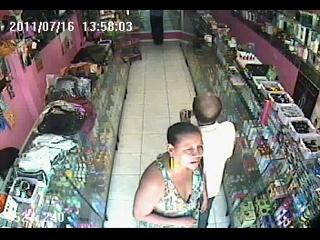Normal: (133, 121, 210, 227), (180, 92, 237, 228)
